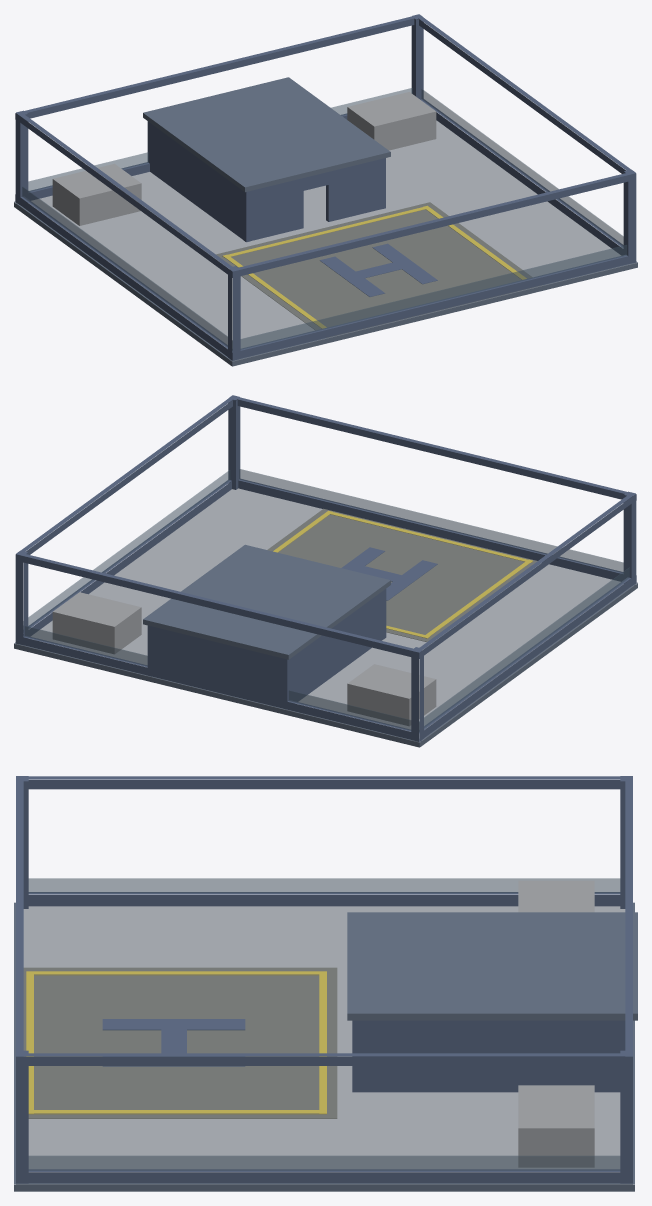
Rendered from office-roof-a.glass-v2.lod1.glb.
3 views of the same model, one above another, from view 1: azimuth 30°, elevation 25°; view 2: azimuth 150°, elevation 25°; view 3: azimuth 270°, elevation 25° (orthographic). The views are drawn at different scales.
Parts seen in each view (by area): view 1: office-roof-a; view 2: office-roof-a; view 3: office-roof-a.
Boxes of the visible parts, <box> form: office-roof-a: <box>14,14,637,366</box>; office-roof-a: <box>14,395,637,747</box>; office-roof-a: <box>14,776,637,1191</box>.
Bounding box in the file's own units: 26.16 × 5.84 × 24.48.
